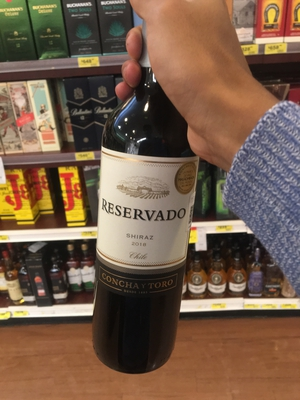reservado shiraz: (95, 29, 198, 370)
